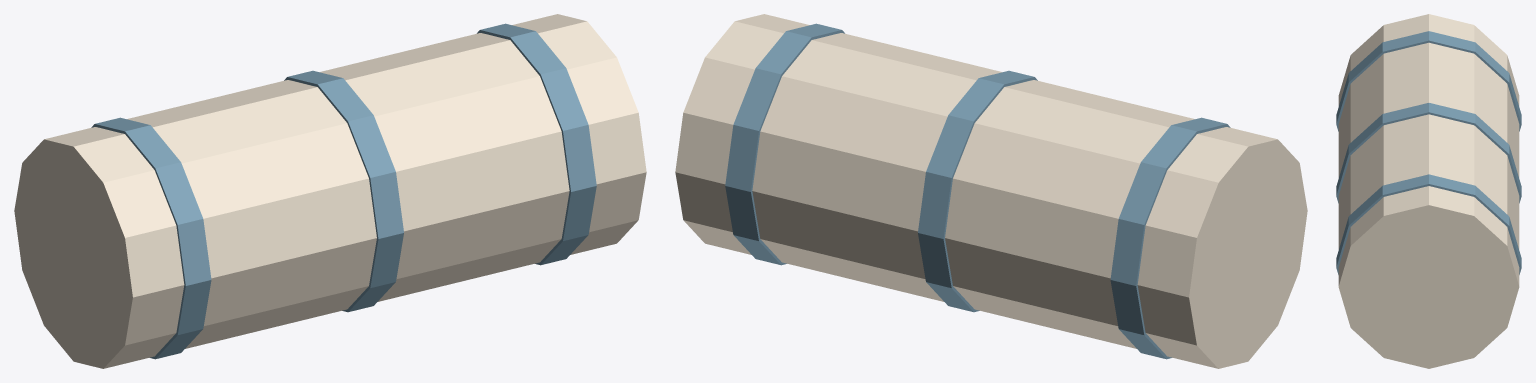
File: padding_roll.glb
3 views of the same model, side by side, from view 1: azimuth 30°, elevation 25°; view 2: azimuth 150°, elevation 25°; view 3: azimuth 270°, elevation 25° (orthographic). The views are drawn at different scales.
Visible parts, largest first — view 1: padding_roll; view 2: padding_roll; view 3: padding_roll.
Boxes of the visible parts, left/top/right/bottom form: padding_roll: left=14, top=14, right=646, bottom=368; padding_roll: left=675, top=14, right=1307, bottom=368; padding_roll: left=1336, top=14, right=1521, bottom=368.
Bounding box in the file's own units: 0.4 × 0.164 × 0.164.
